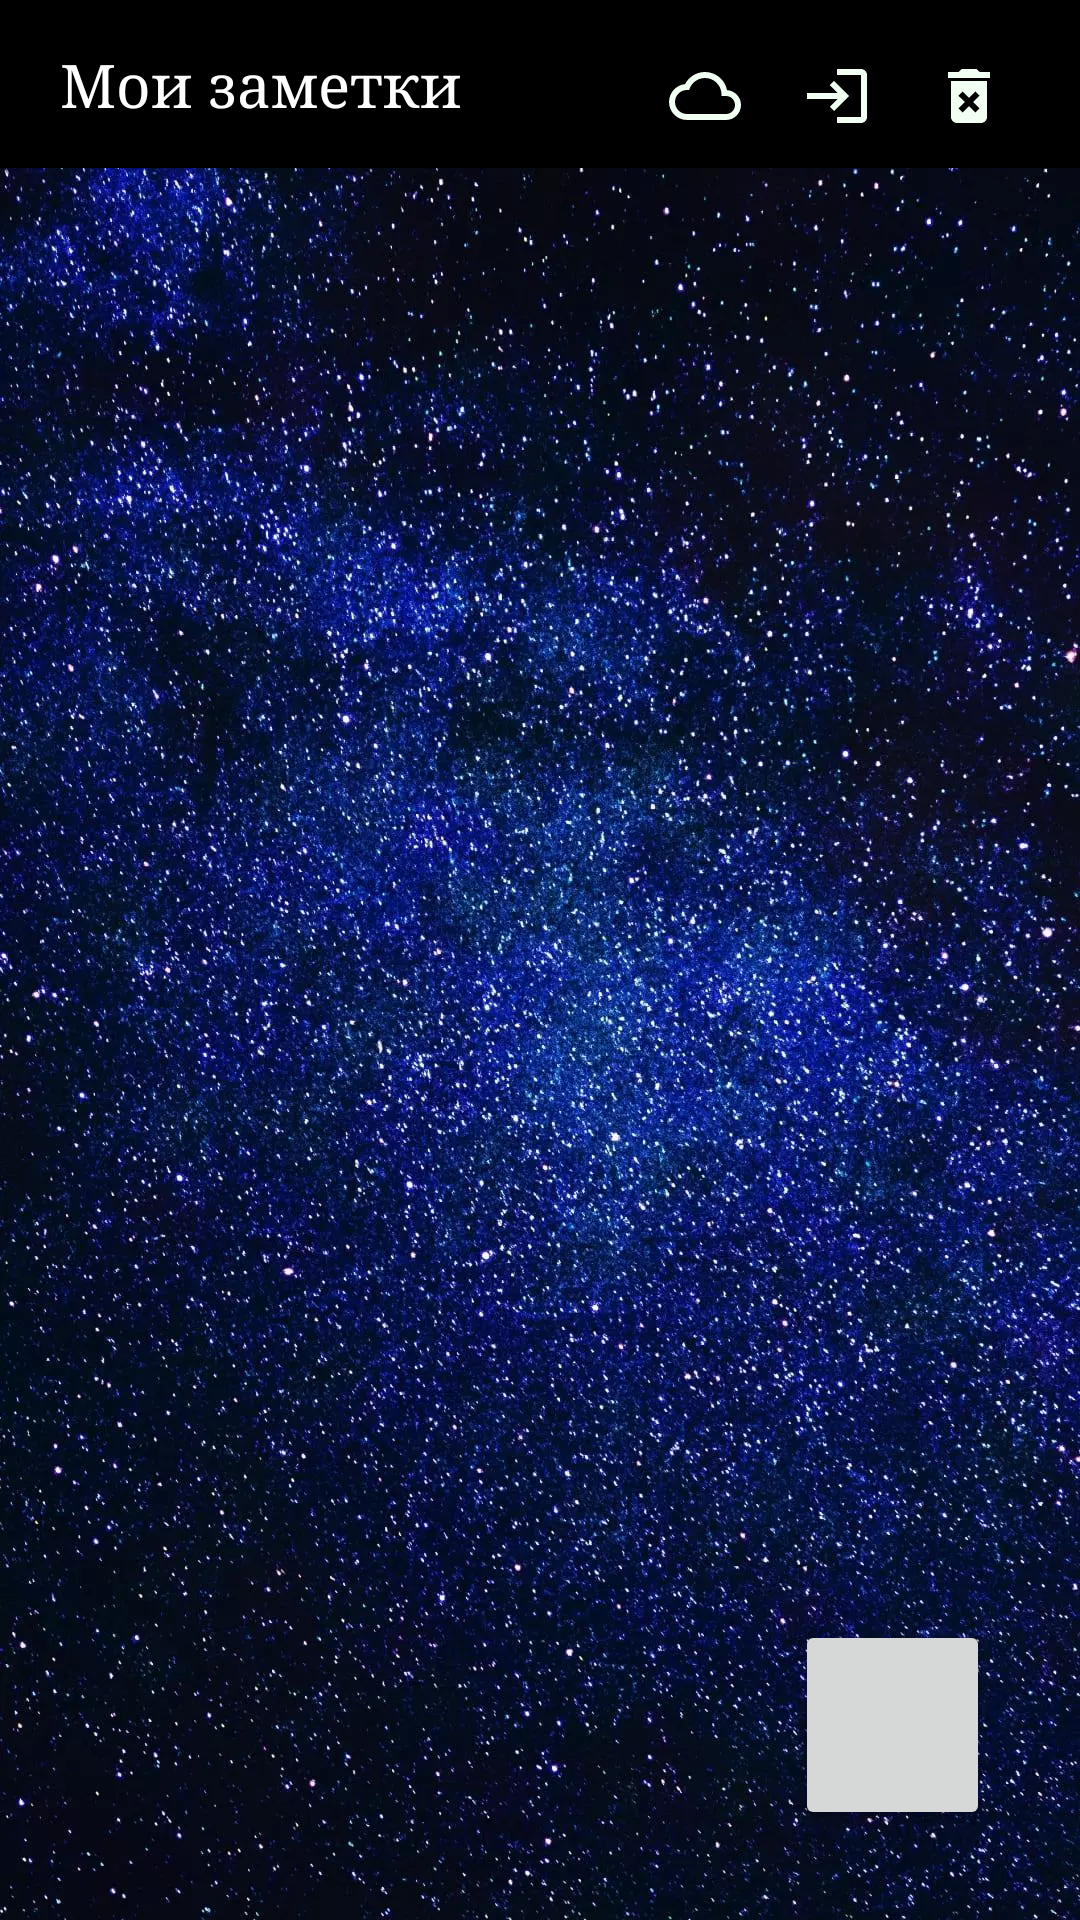

Point at icon controls on the screen. Image size 1080*1920, points as (x=x, y=y).
cloud: (x=705, y=96)
